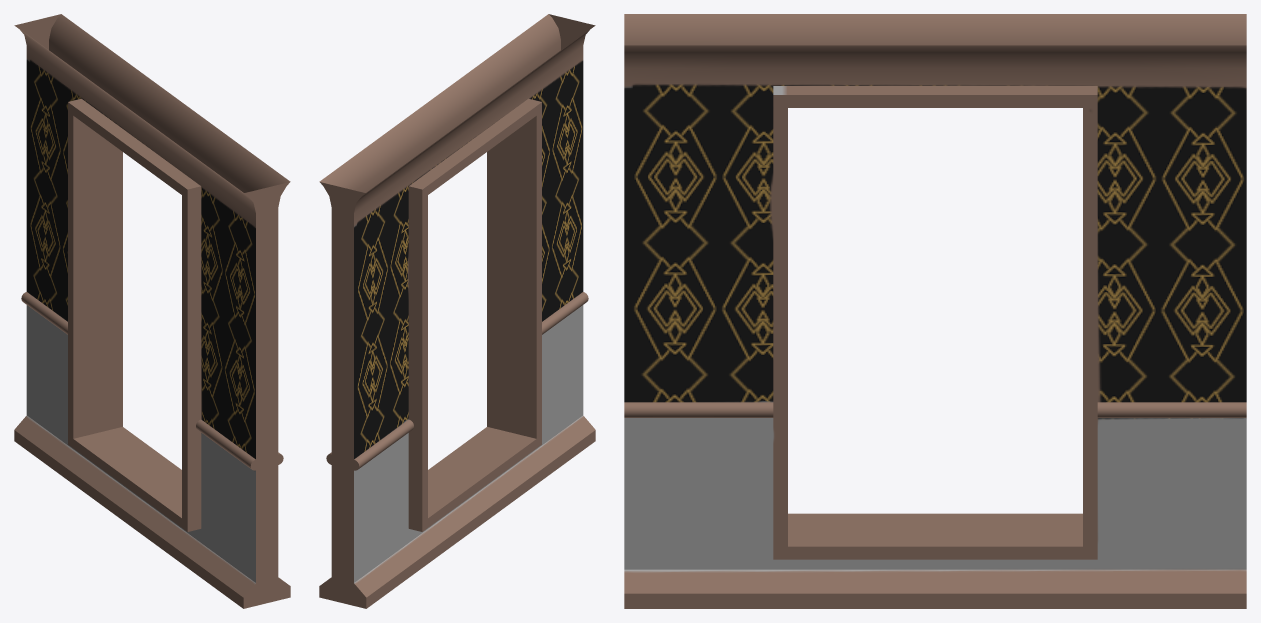
The model's file is Wall_With_Window_Slot.fbx.
3 views of the same model, side by side, from view 1: azimuth 30°, elevation 25°; view 2: azimuth 150°, elevation 25°; view 3: azimuth 270°, elevation 25° (orthographic). The views are drawn at different scales.
Parts seen in each view (by area): view 1: polySurface39; view 2: polySurface39; view 3: polySurface39.
Boxes of the visible parts, bbox=[...] form: polySurface39: bbox=[14, 14, 290, 608]; polySurface39: bbox=[319, 14, 595, 608]; polySurface39: bbox=[624, 14, 1246, 608].
Bounding box in the file's own units: 0.3746 × 3 × 3.
